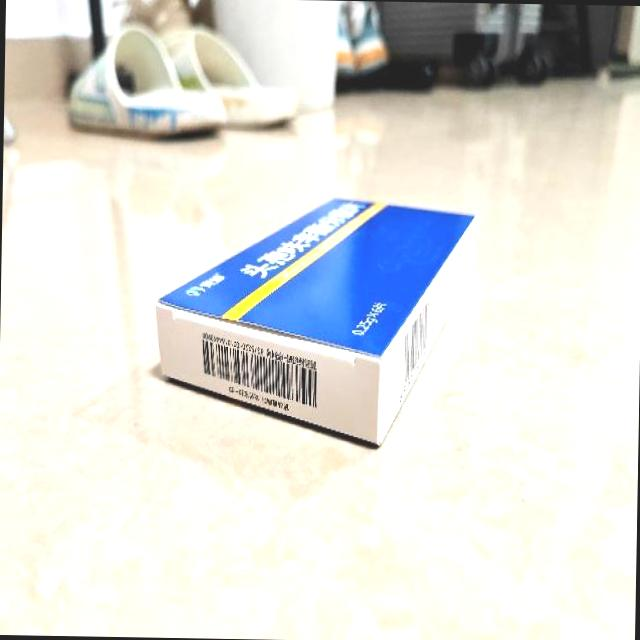box: (156, 191, 478, 449)
